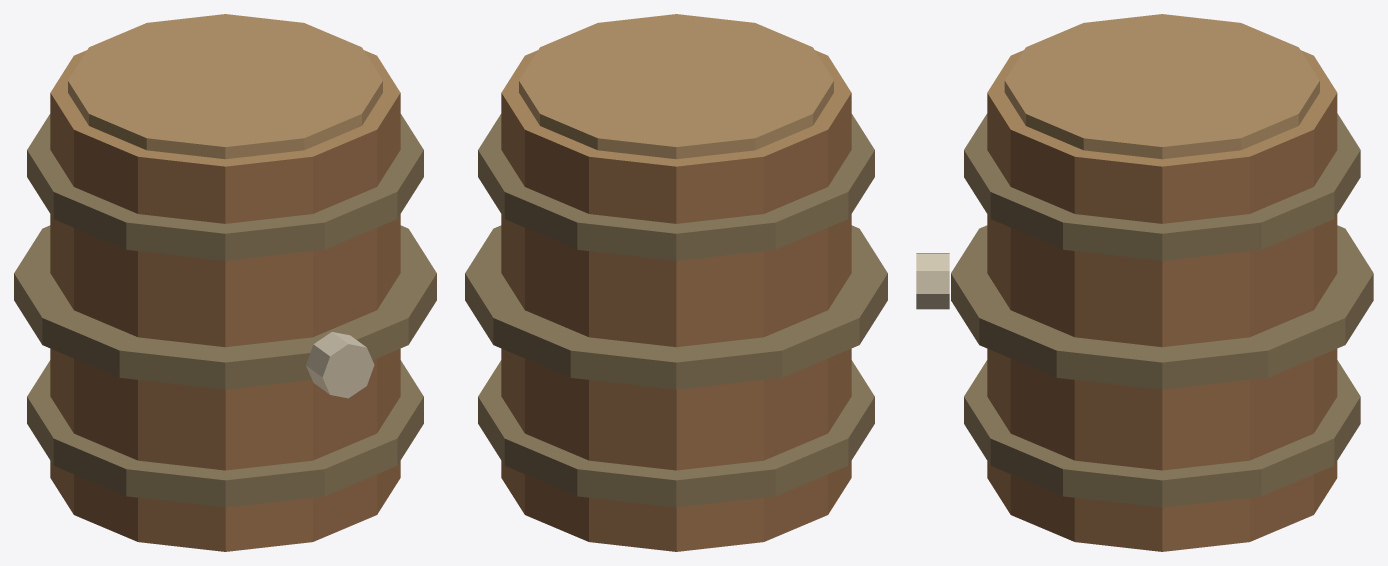
The model's file is ranch_barrel.fbx.
The picture shows the model from 3 angles, left to right: view 1: azimuth 30°, elevation 25°; view 2: azimuth 150°, elevation 25°; view 3: azimuth 270°, elevation 25°; orthographic projection.
Visible parts, largest first — view 1: ranch_barrel; view 2: ranch_barrel; view 3: ranch_barrel.
Part boxes in pixels (x1,y1,x2,y2): ranch_barrel: [14, 14, 436, 551]; ranch_barrel: [465, 14, 887, 551]; ranch_barrel: [916, 14, 1373, 551].
Size of the model in its own units: 2.54 by 2.63 by 2.74.
